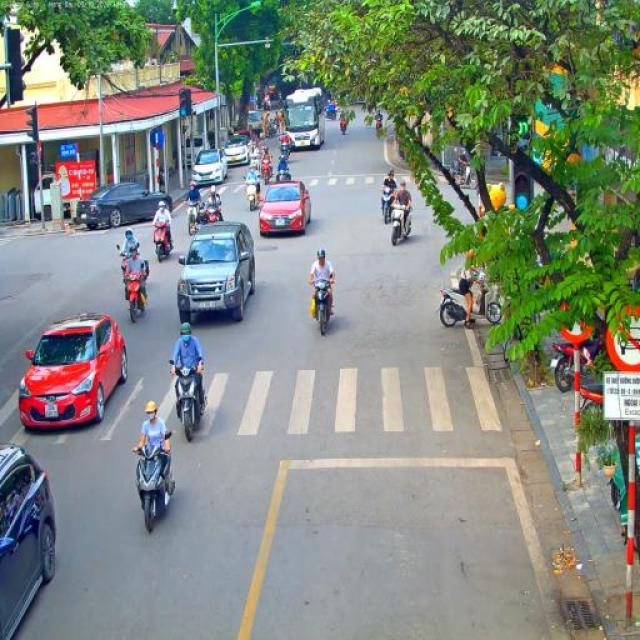bus: (533, 63, 587, 163), (284, 89, 324, 150)
car: (18, 312, 128, 429), (0, 440, 58, 640), (176, 220, 256, 326), (76, 181, 172, 230), (259, 180, 311, 236), (193, 149, 228, 190), (222, 136, 252, 172), (232, 130, 252, 149)
motorcycle: (132, 432, 176, 532), (436, 271, 506, 328), (168, 359, 208, 442), (550, 334, 604, 394), (310, 276, 334, 336), (124, 271, 150, 324), (116, 242, 140, 284), (390, 202, 412, 246), (152, 222, 173, 262), (453, 159, 478, 190), (379, 185, 397, 224), (580, 383, 604, 412), (185, 200, 204, 236), (200, 198, 224, 224), (244, 179, 261, 212), (260, 157, 274, 185), (278, 141, 291, 163), (249, 158, 260, 182), (276, 168, 292, 182), (323, 108, 338, 121), (340, 119, 346, 135), (376, 121, 382, 134)
truck: (238, 111, 264, 138)
